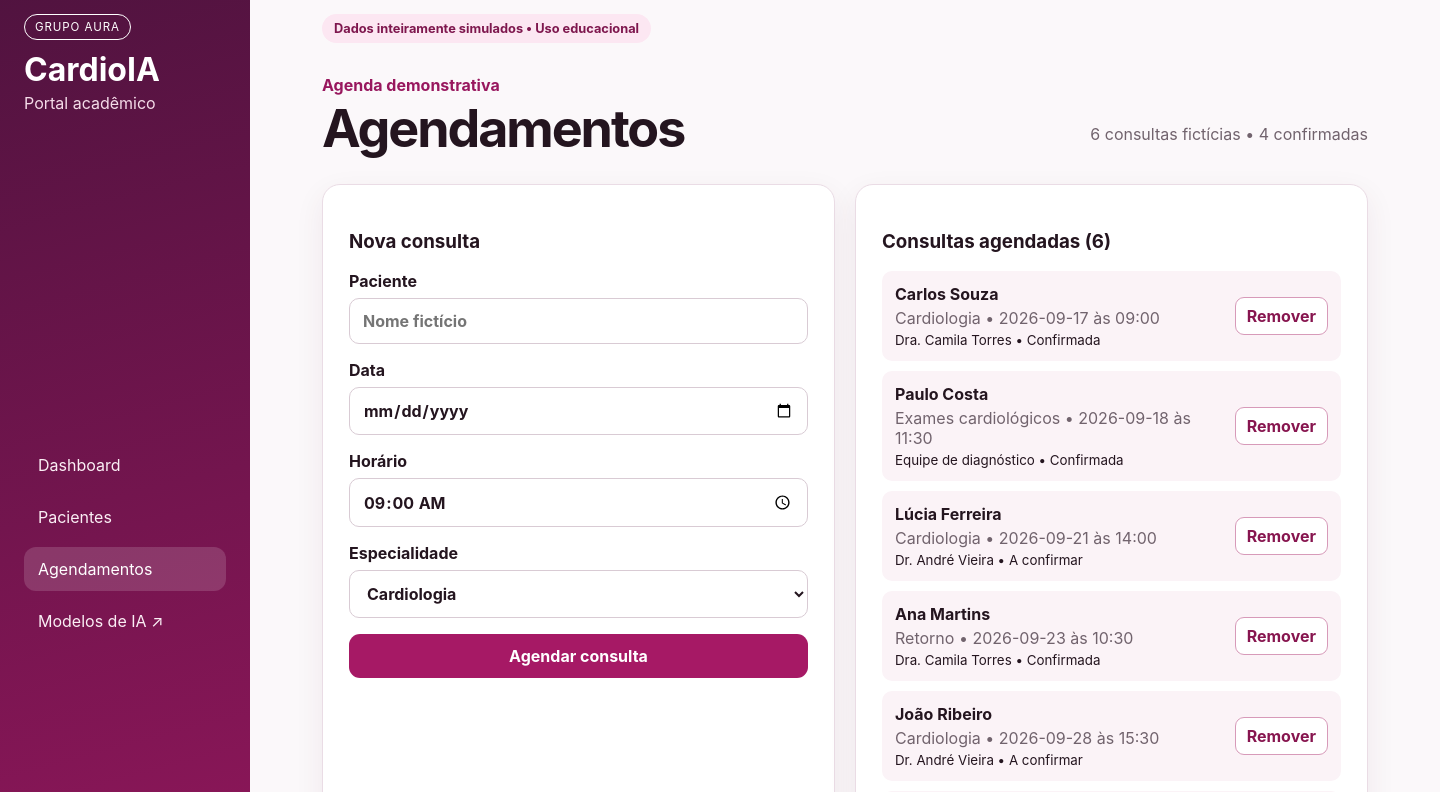
Scenario: CardioIA Portal › valida, cria, persiste e remove agendamentos
This screenshot has width=1440, height=792.
expect the text "Carlos Souza" is shown: met, box [895, 284, 998, 304]
expect the text "6 consultas fictícias • 4 confirmadas" is shown: met, box [1090, 124, 1368, 144]
Click the button "Agendar consulta" at [578, 656], box [349, 634, 808, 678]
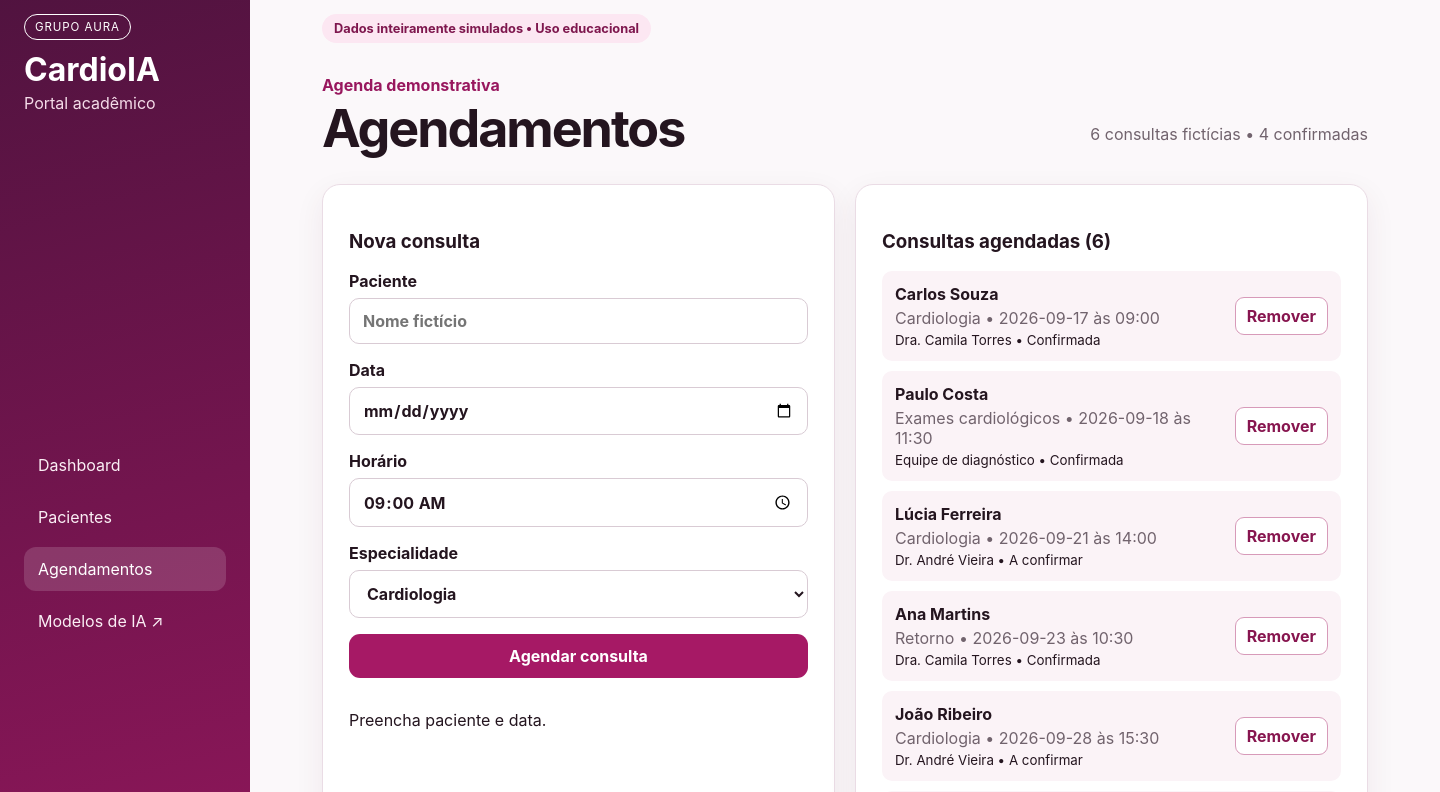
expect the message reads "Preencha paciente e data.": met, box [349, 710, 546, 730]
Type "Pessoa Fictícia" into the field labelled "Paciente" at [578, 321], box [349, 298, 808, 344]
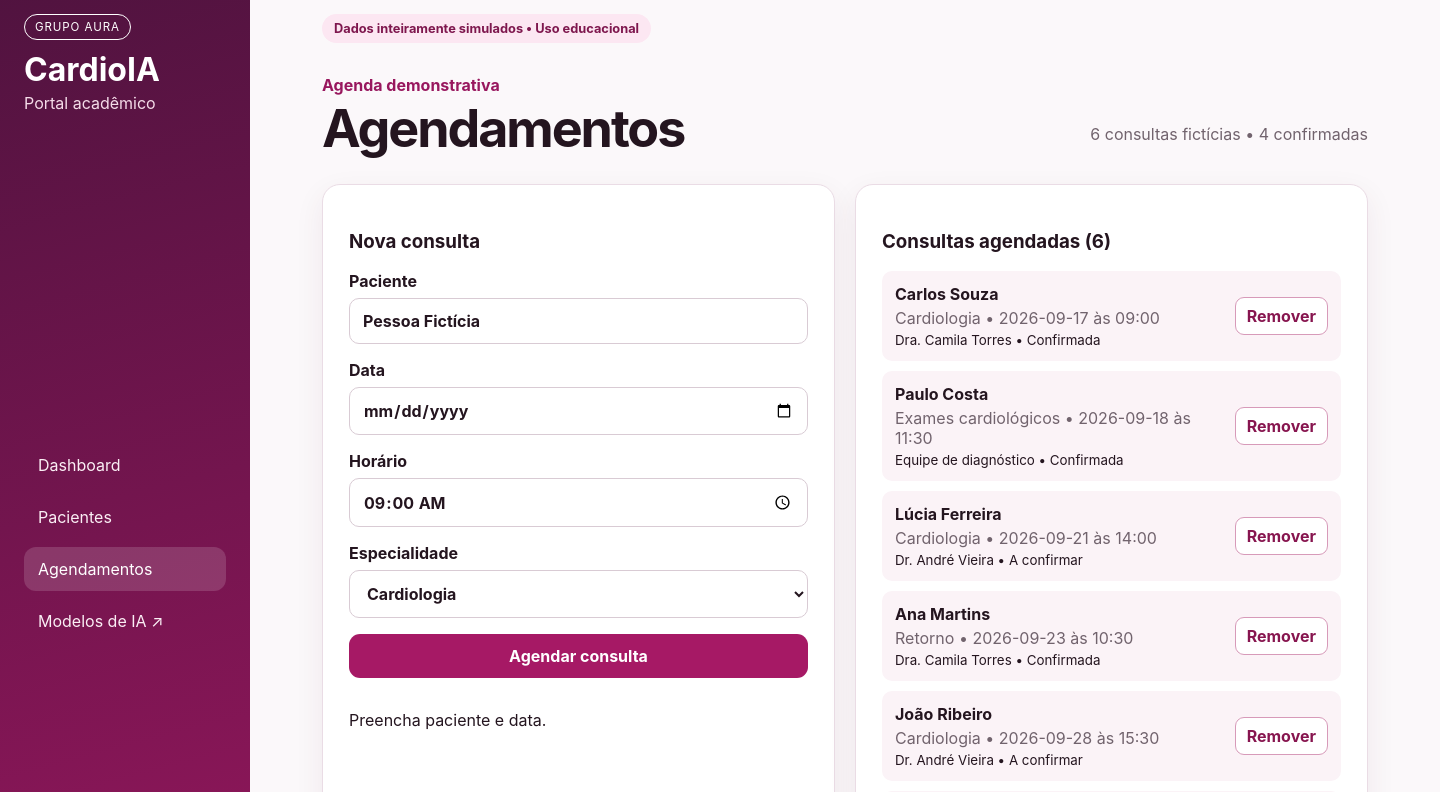
Type "2026-10-10" into the date field labelled "Data" at [578, 411], box [349, 387, 808, 435]
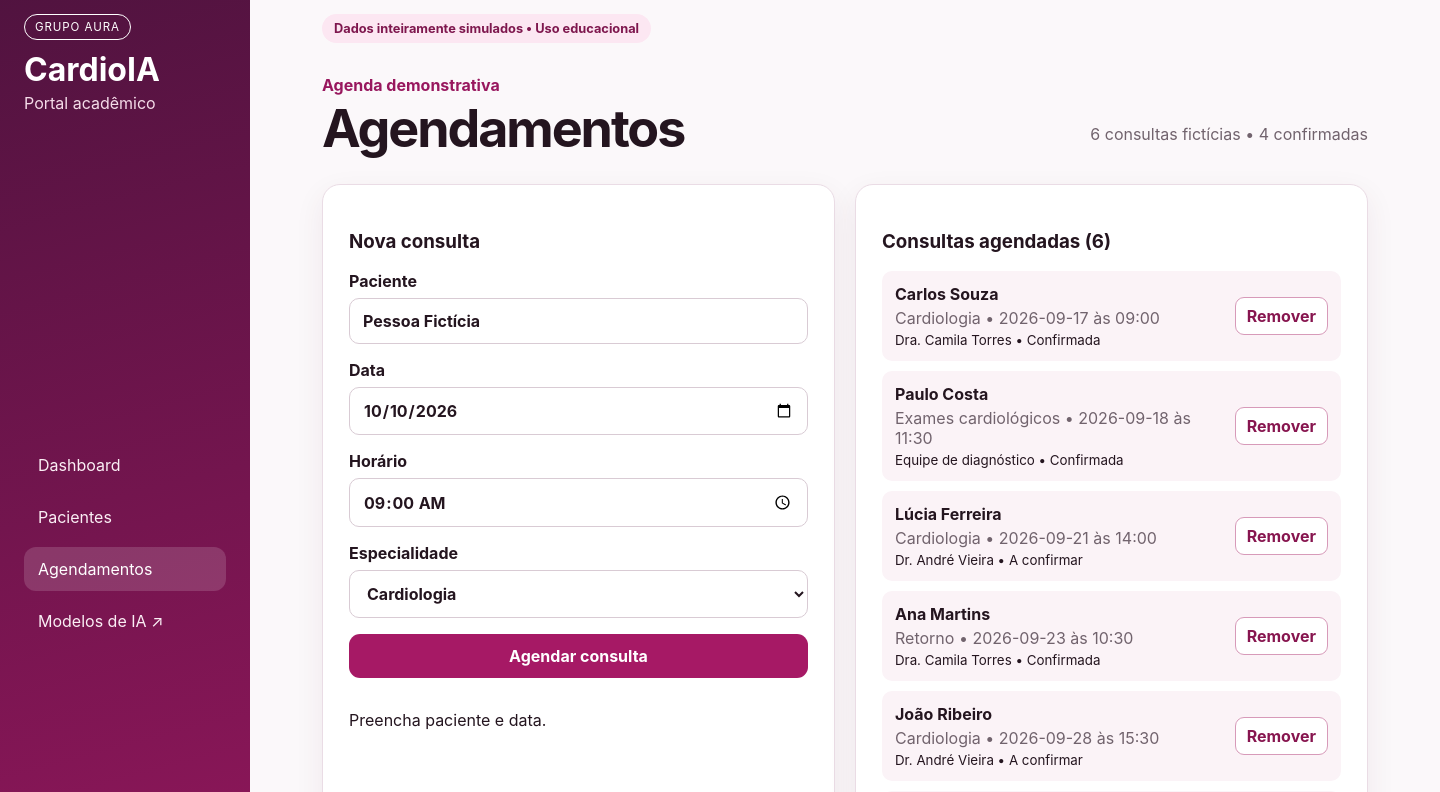
Click the button "Agendar consulta" at [578, 656], box [349, 634, 808, 678]
(page scrolled)
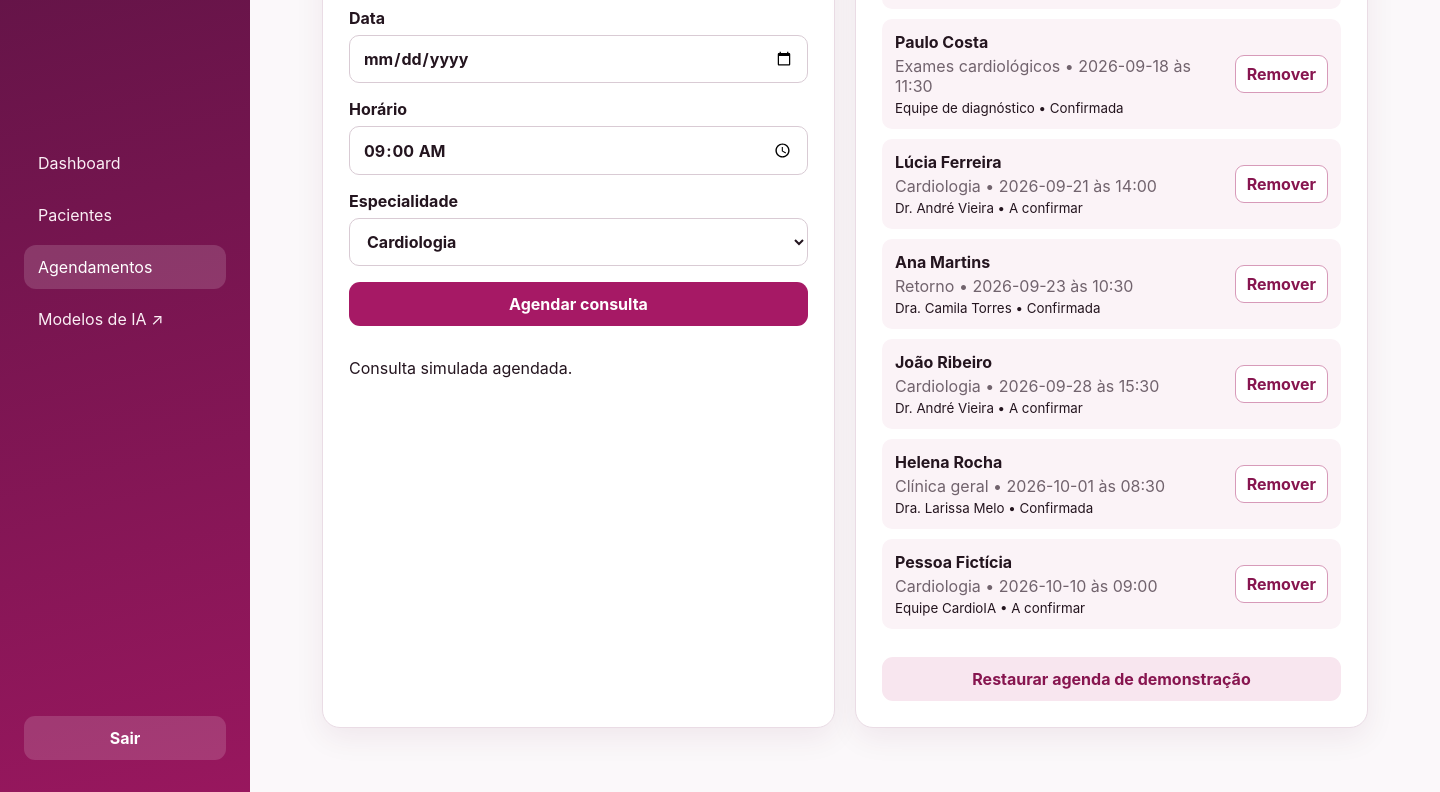
expect the text "Pessoa Fictícia" is shown: met, box [895, 552, 1012, 572]
Click the button with aria-label "Remover consulta de Pessoa Fictícia" at [1281, 584], box [1235, 565, 1328, 603]
(page scrolled)
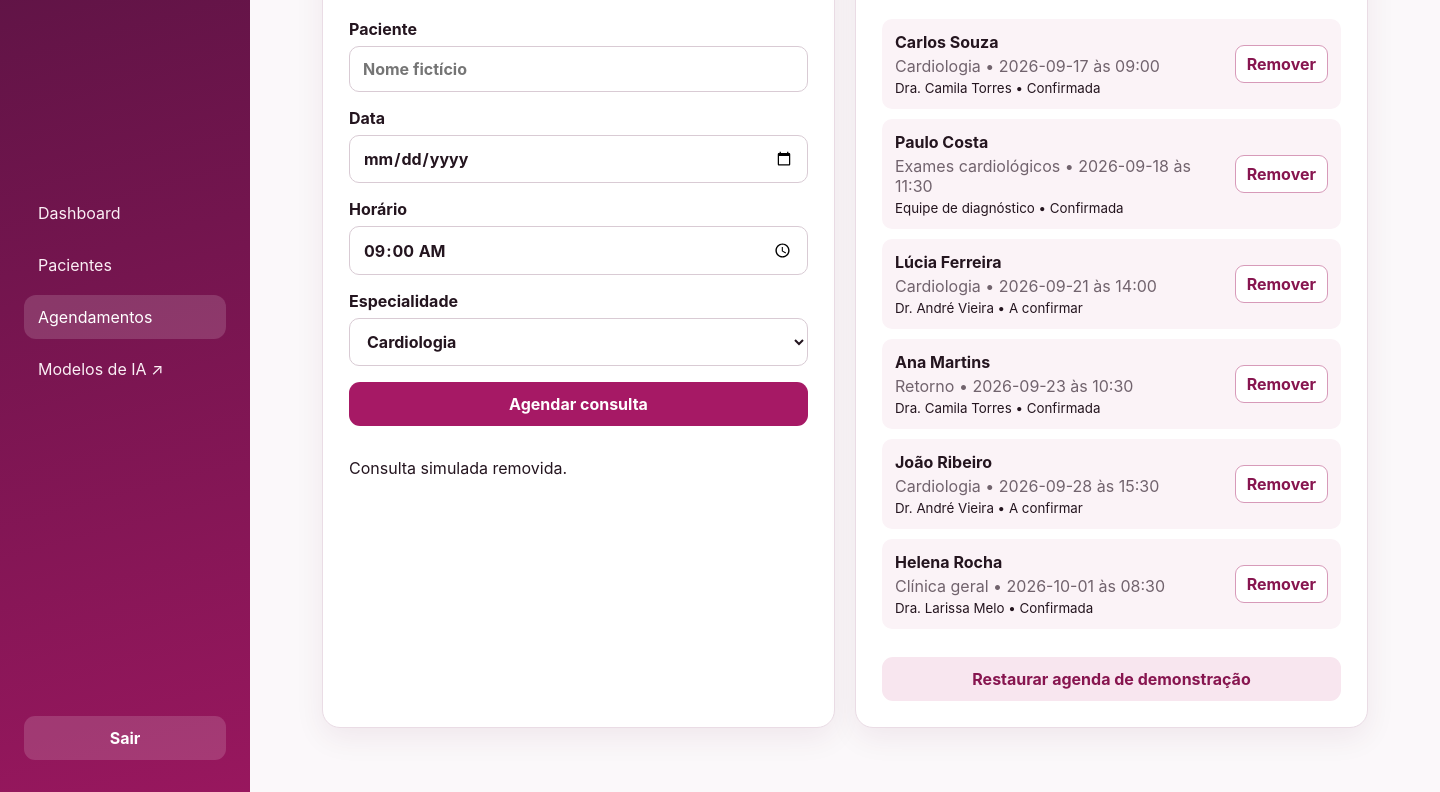
expect the text "Pessoa Fictícia" is gone: met
